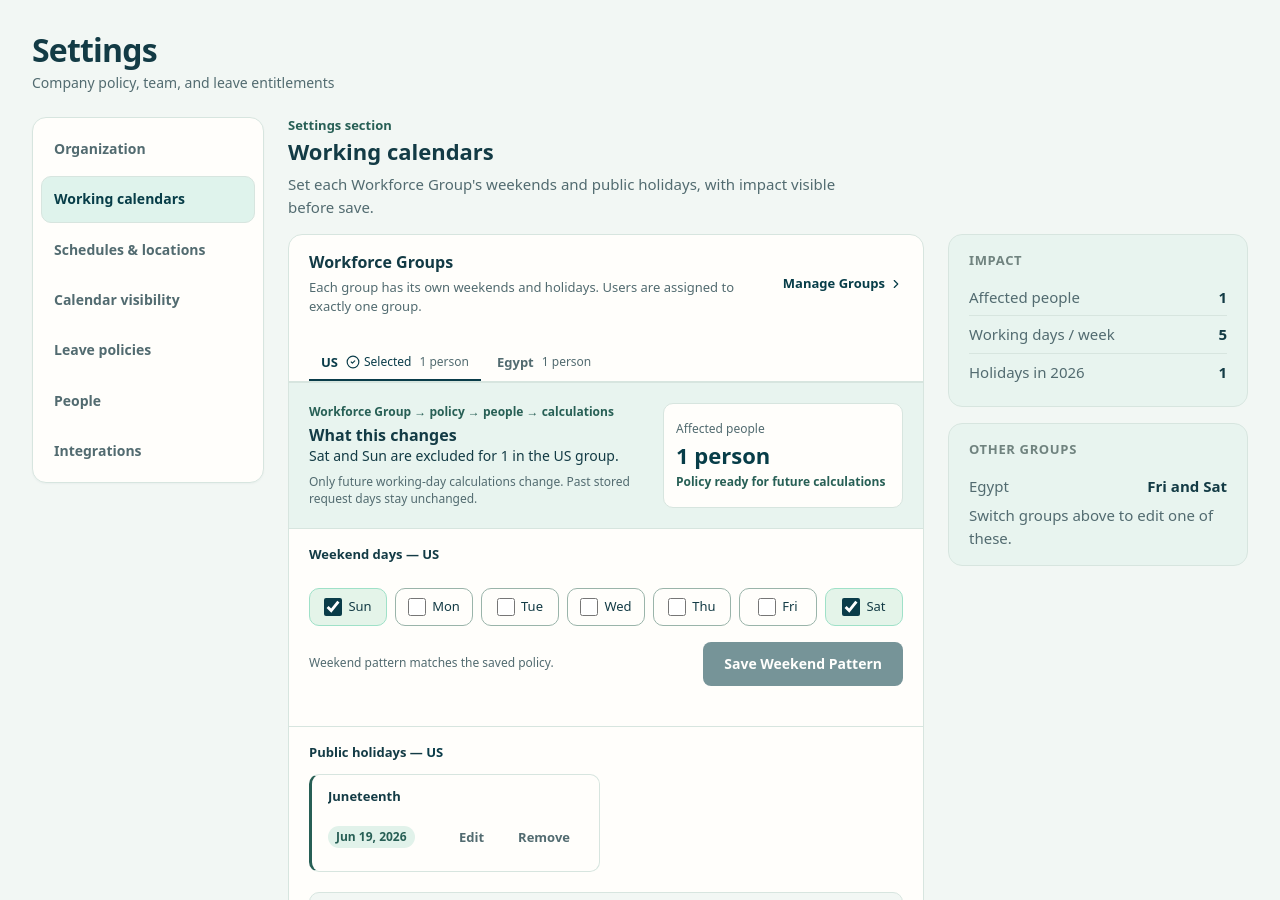
Test: SettingsInformationArchitecture ATDD — Story 11.5 › [P0] Given Working calendars is active, When Leave policies is selected, Then URL updates and only that panel is visible
Step 1. Click the tab with test id "settings-category-leave-policies" → (148, 350), box [41, 327, 255, 374]
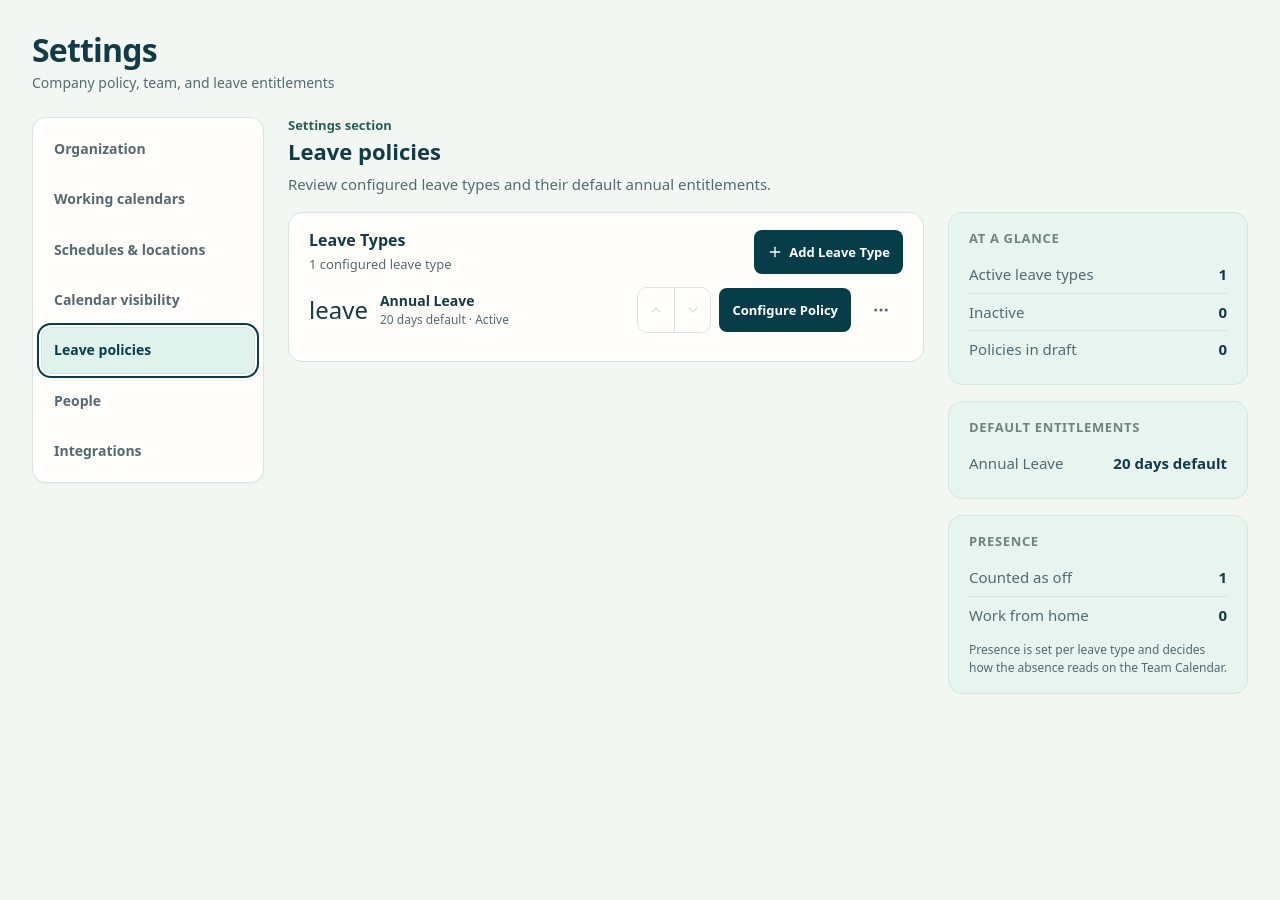
Now the panel with test id "settings-panel-leave-policies" is shown, box [288, 212, 1248, 694]
Now the element with test id "leave-types-card" is shown, box [288, 212, 924, 362]
